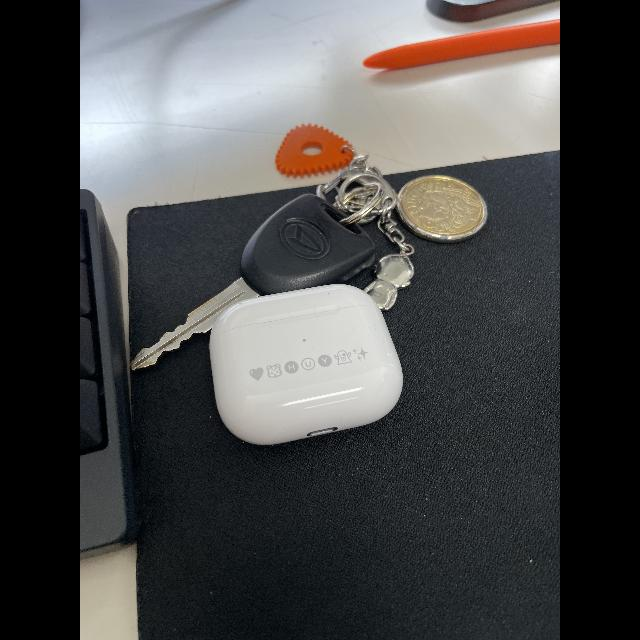airpod3: (206, 276, 410, 444)
